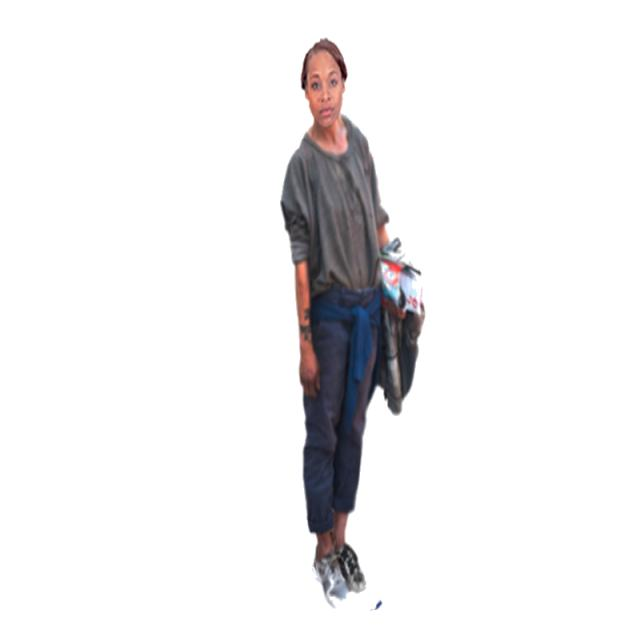jovem: (281, 34, 400, 620)
